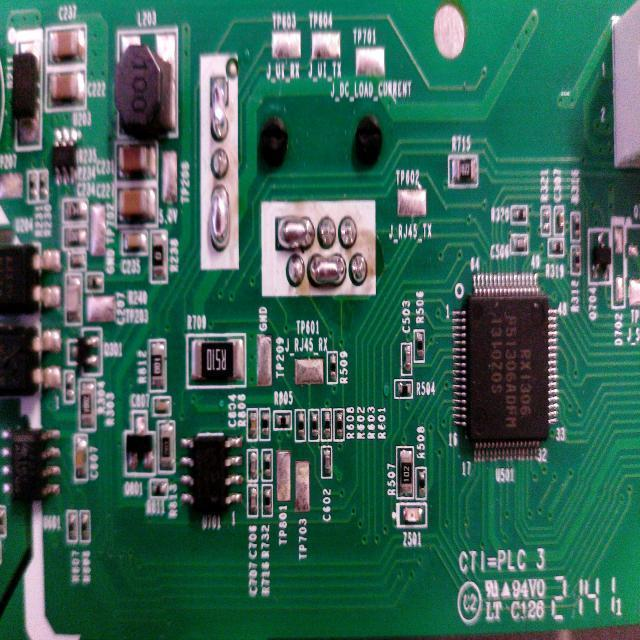Soldering shorted: (306, 252, 348, 294), (210, 187, 233, 248), (210, 76, 230, 142), (274, 218, 316, 248)
